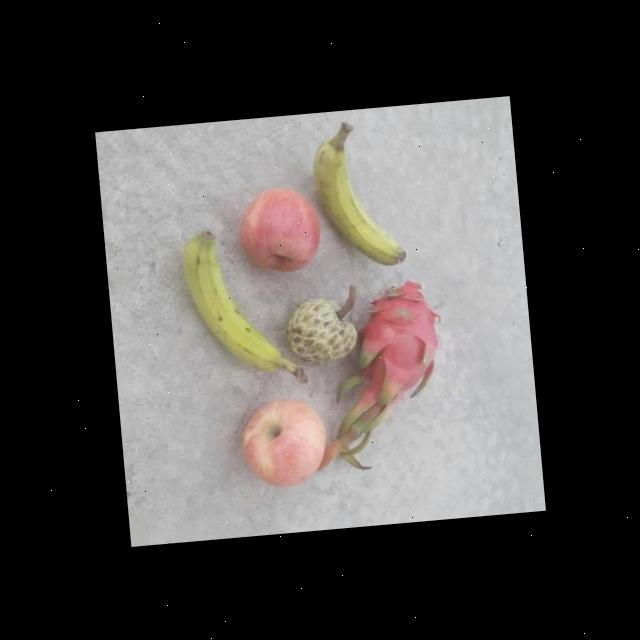Sakya fruit: (278, 279, 364, 366)
apple: (230, 392, 330, 492), (234, 184, 324, 278)
banana: (175, 216, 308, 394), (308, 114, 409, 271)
pitaya: (344, 276, 447, 404)
